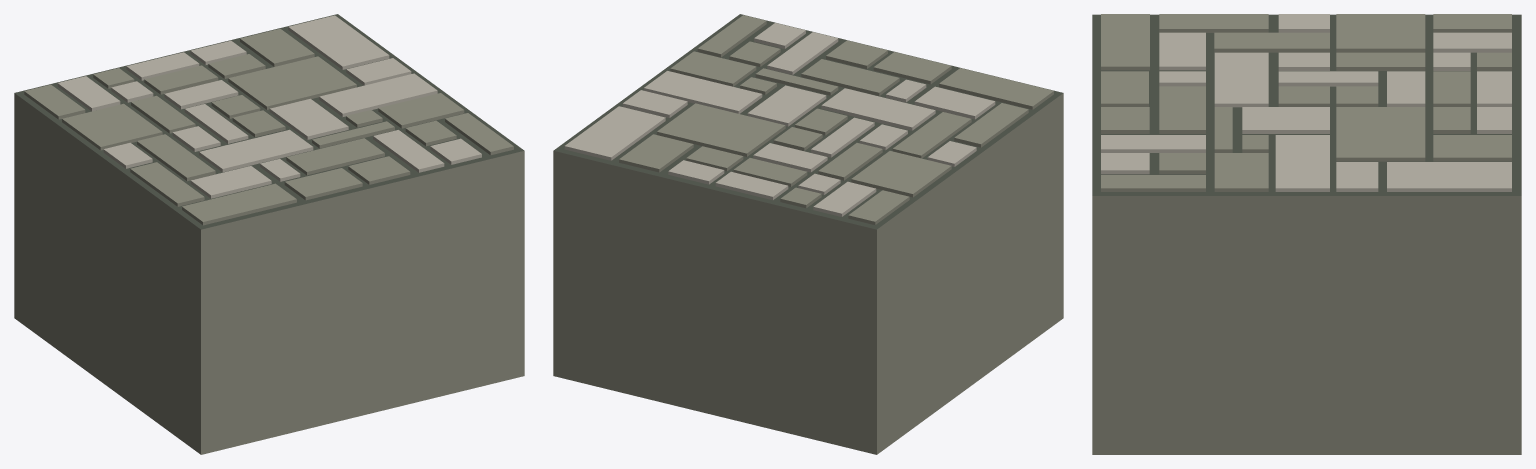
Rendered from FourWayFilled.fbx.
3 views of the same model, side by side, from view 1: azimuth 30°, elevation 25°; view 2: azimuth 150°, elevation 25°; view 3: azimuth 270°, elevation 25° (orthographic). The views are drawn at different scales.
Parts seen in each view (by area): view 1: Stone Bridge - Four-way Filled; view 2: Stone Bridge - Four-way Filled; view 3: Stone Bridge - Four-way Filled.
Part boxes in pixels (bbox=[...]): Stone Bridge - Four-way Filled: bbox=[14, 14, 524, 454]; Stone Bridge - Four-way Filled: bbox=[553, 14, 1063, 454]; Stone Bridge - Four-way Filled: bbox=[1092, 14, 1521, 454].
Size of the model in its own units: 100 by 67.56 by 100.
